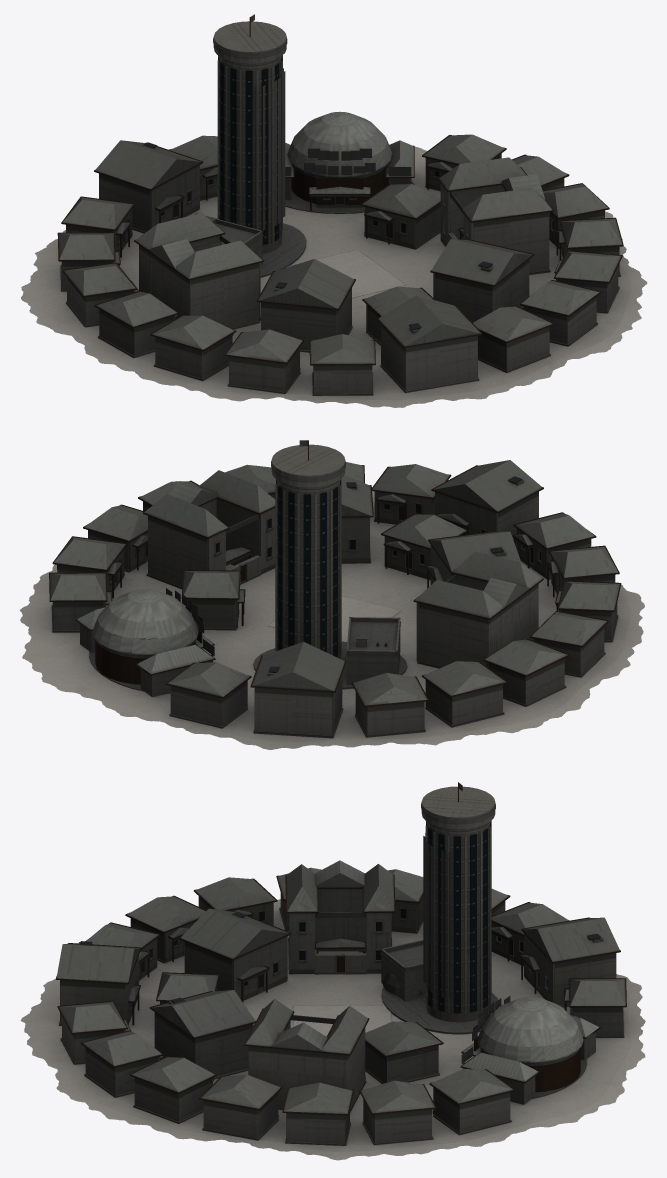
The model's file is modern-town-big-a-eastafrica.glb.
3 renders of one model, top to bottom at view 1: azimuth 30°, elevation 25°; view 2: azimuth 150°, elevation 25°; view 3: azimuth 270°, elevation 25°, orthographic.
Visible parts, largest first — view 1: LOD0; view 2: LOD0; view 3: LOD0.
Boxes of the visible parts, <box> form: LOD0: <box>21,14,647,407</box>; LOD0: <box>19,440,644,749</box>; LOD0: <box>20,782,645,1160</box>.
Size of what is drawn, in the model's own units: 7.96 by 3.15 by 7.91.
3 materials, 3 textured.
